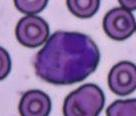E: (34, 31, 100, 84)
